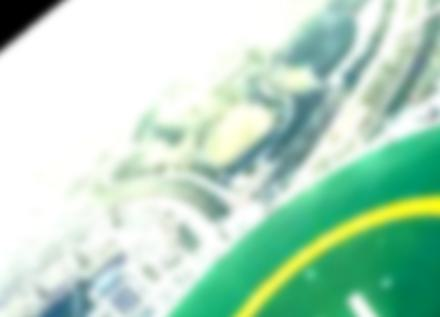Apron: (210, 189, 440, 317)
